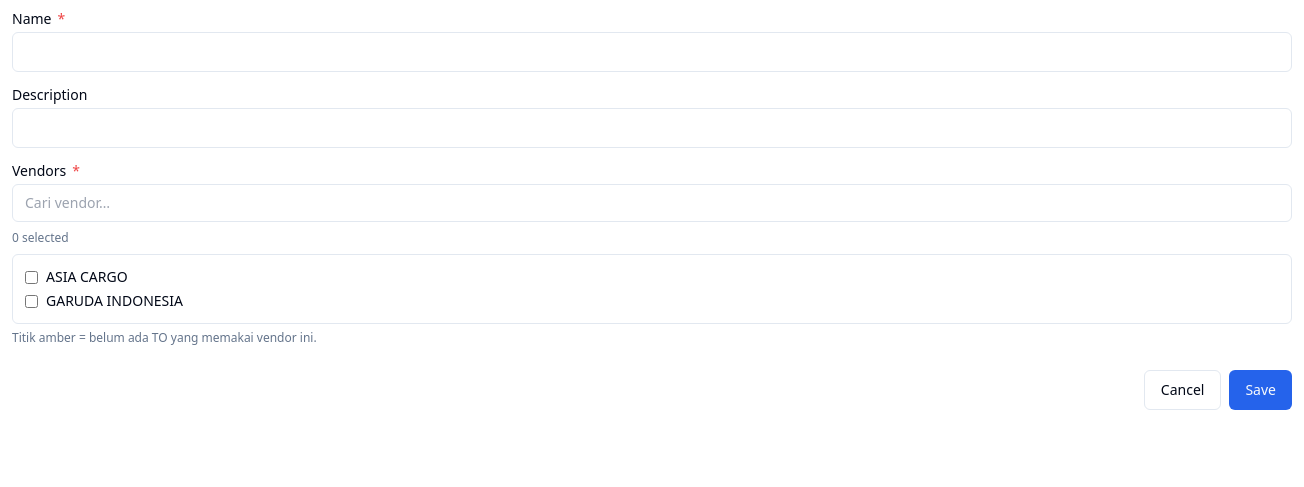
Test: rejects submission when no vendor is selected
Step 1. Type "Maskapai" into the field labelled "Name *" → (652, 52), box [12, 32, 1292, 72]
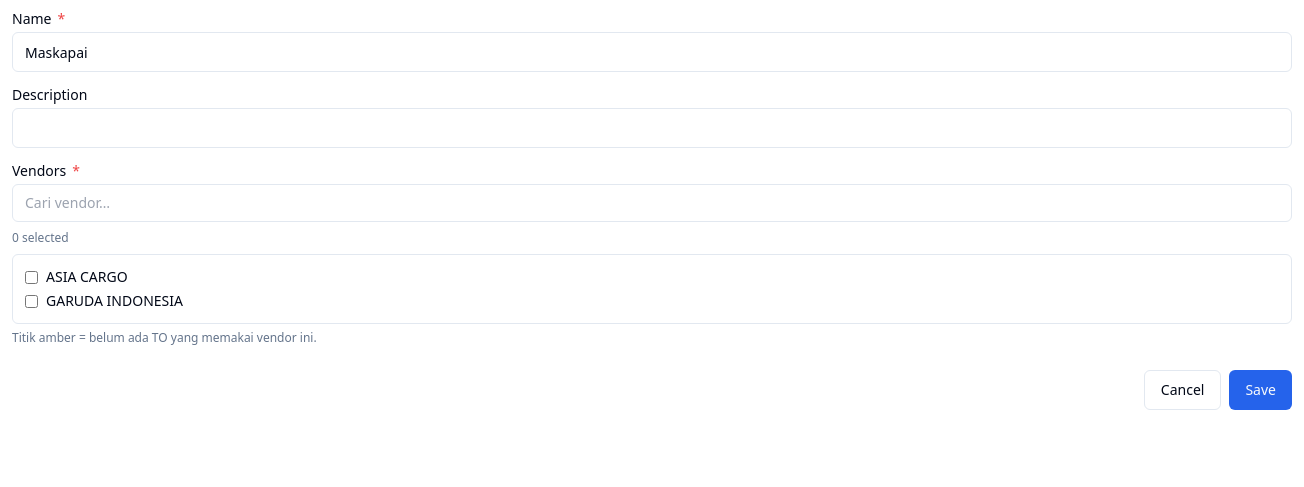
Step 2. Click the button "Save" → click(1261, 390), box [1229, 370, 1292, 410]
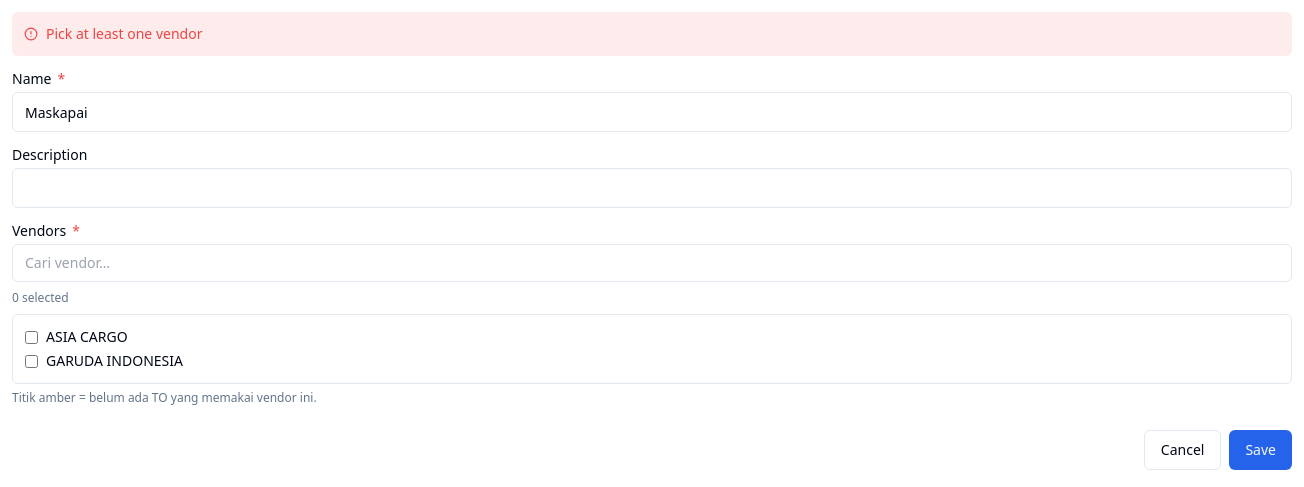
Expected: the text "Pick at least one vendor" is shown, [12, 12, 1292, 56]
